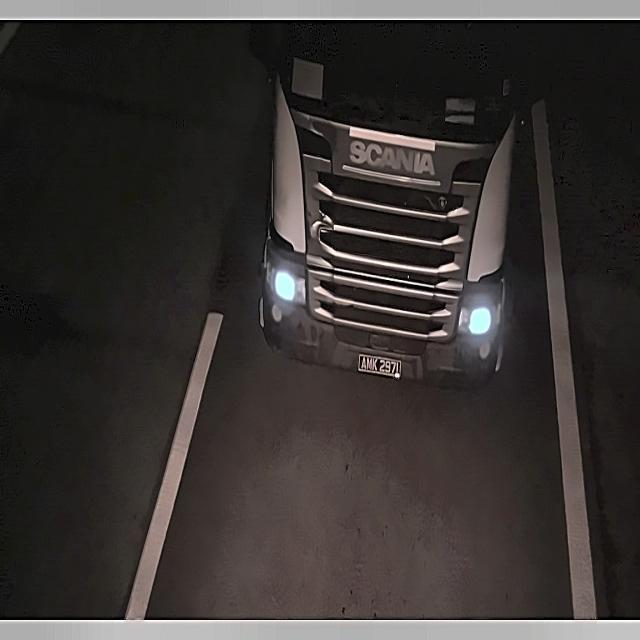car: (358, 350, 403, 383)
